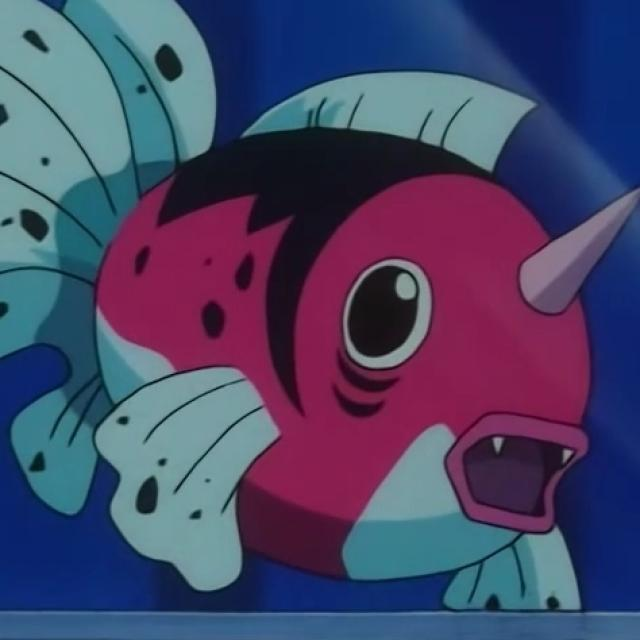Seaking: (48, 65, 598, 609)
